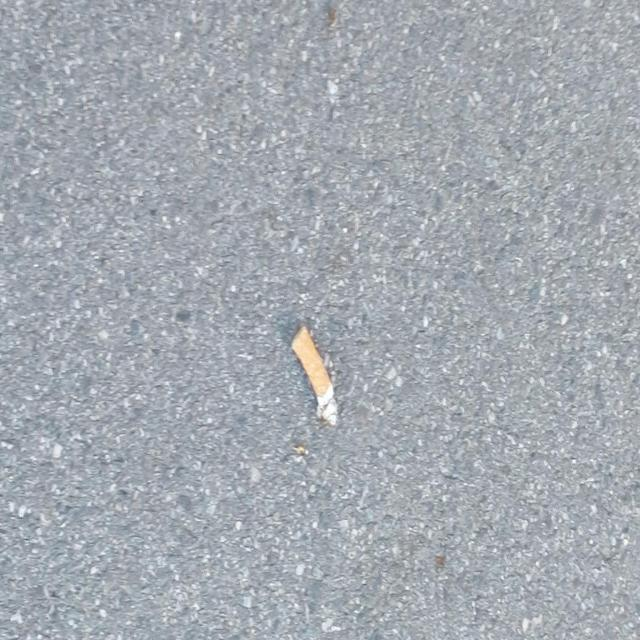other waste: (291, 324, 338, 426)
